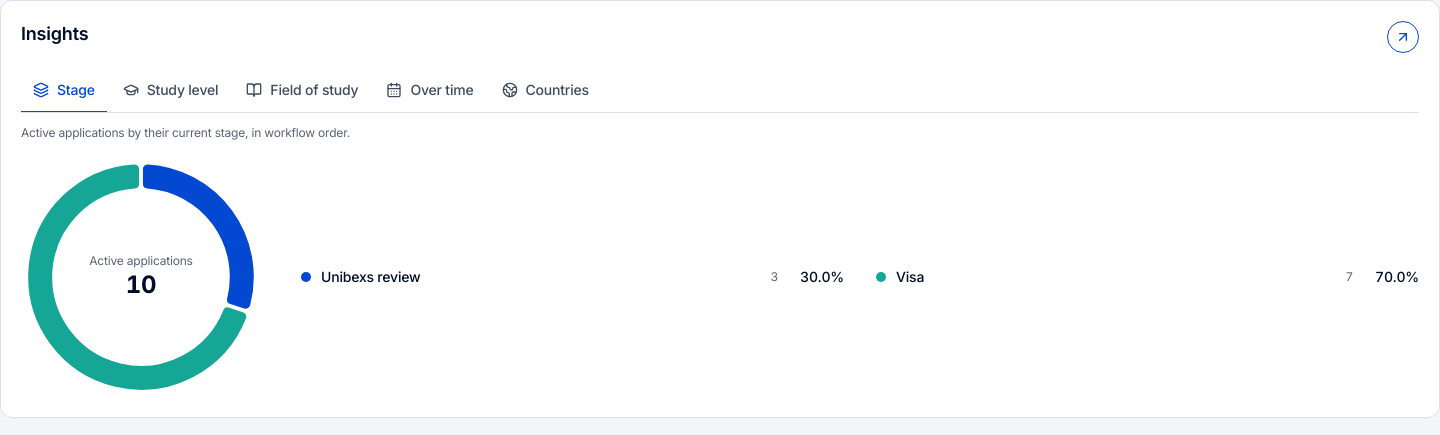
Test: Field of study shows the top five fields and one Others row
The image size is (1440, 435).
Click the tab "Field of study" at (302,91), box [234,69,370,113]
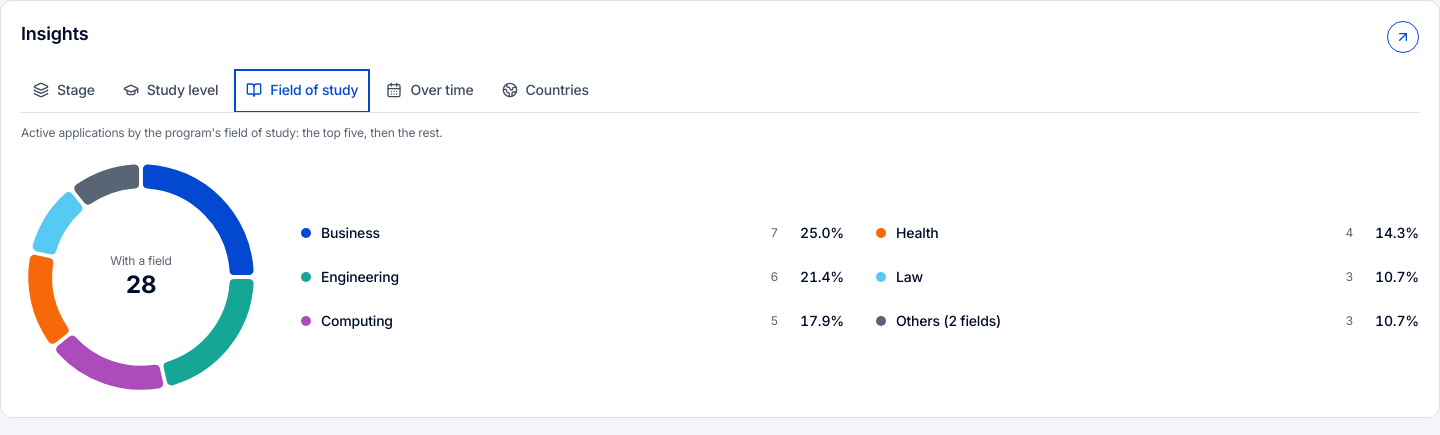
Check: the picture named "With a field" is shown, box [21,157,261,397]
Check: the number of list items is 6, box [301,224,844,241]; [301,268,844,285]; [301,312,844,329]; [876,224,1419,241]; [876,268,1419,285]; [876,312,1419,329]
Check: the text "Others (2 fields)" is shown, box [896,312,1001,329]
